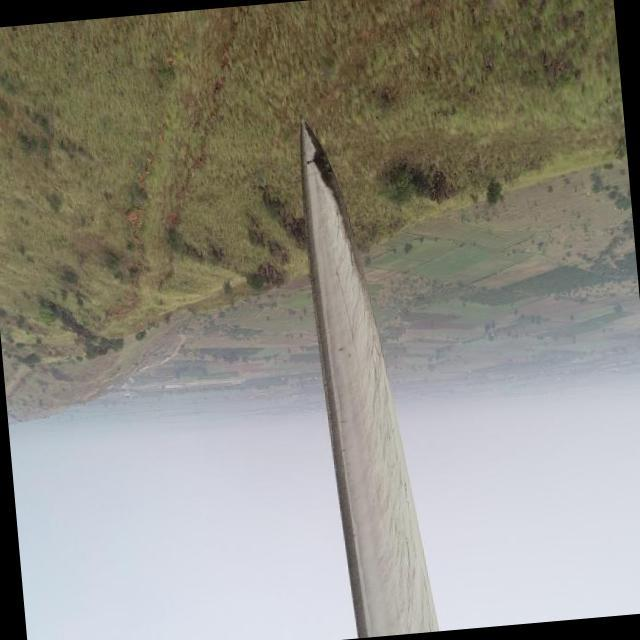Dirt: (305, 119, 444, 636)
Oil LEAKAGE: (304, 116, 350, 242)
Pin Hole: (304, 155, 313, 170)
